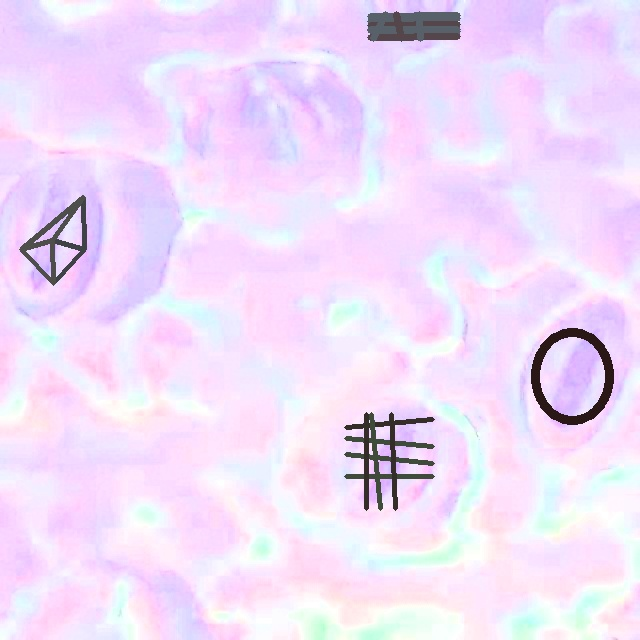open: (344, 413, 434, 509), (531, 327, 614, 426), (19, 195, 86, 285), (367, 11, 460, 41)
